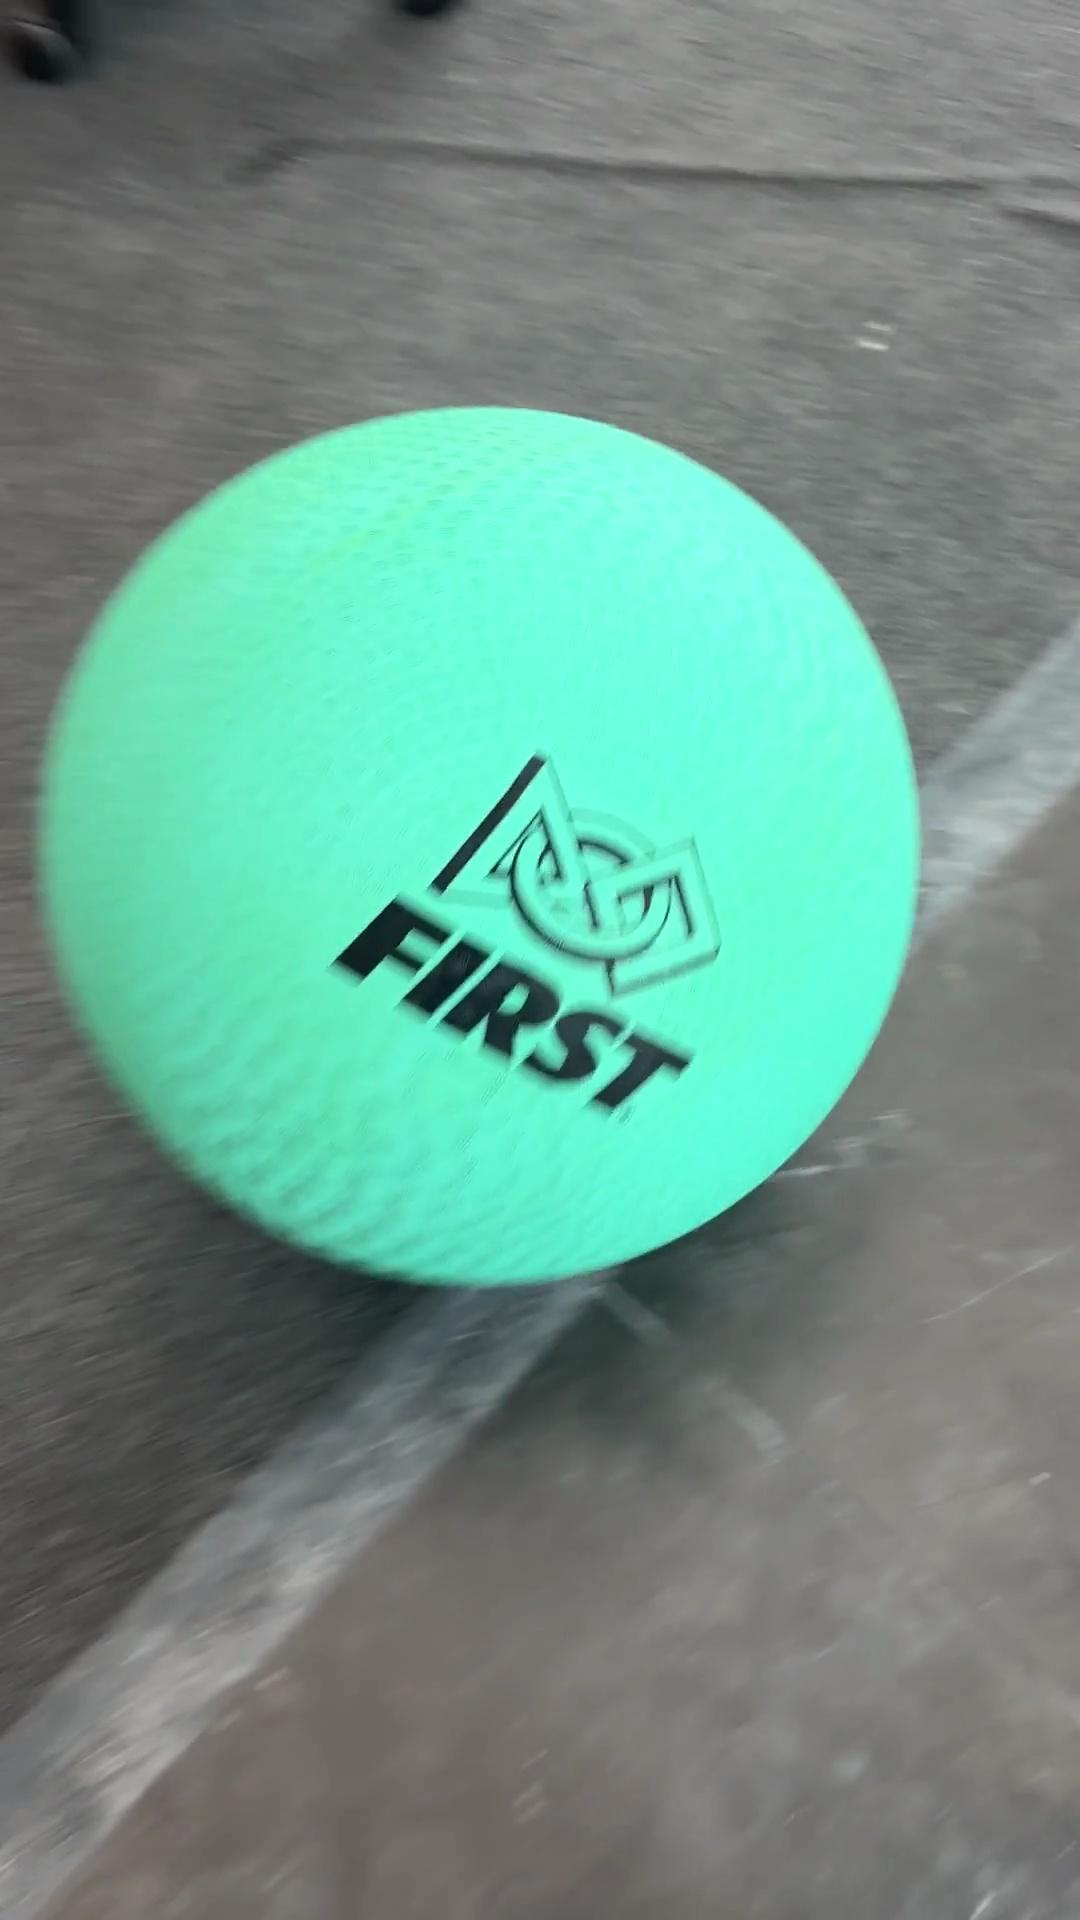ALGAE: (34, 400, 924, 1291)
